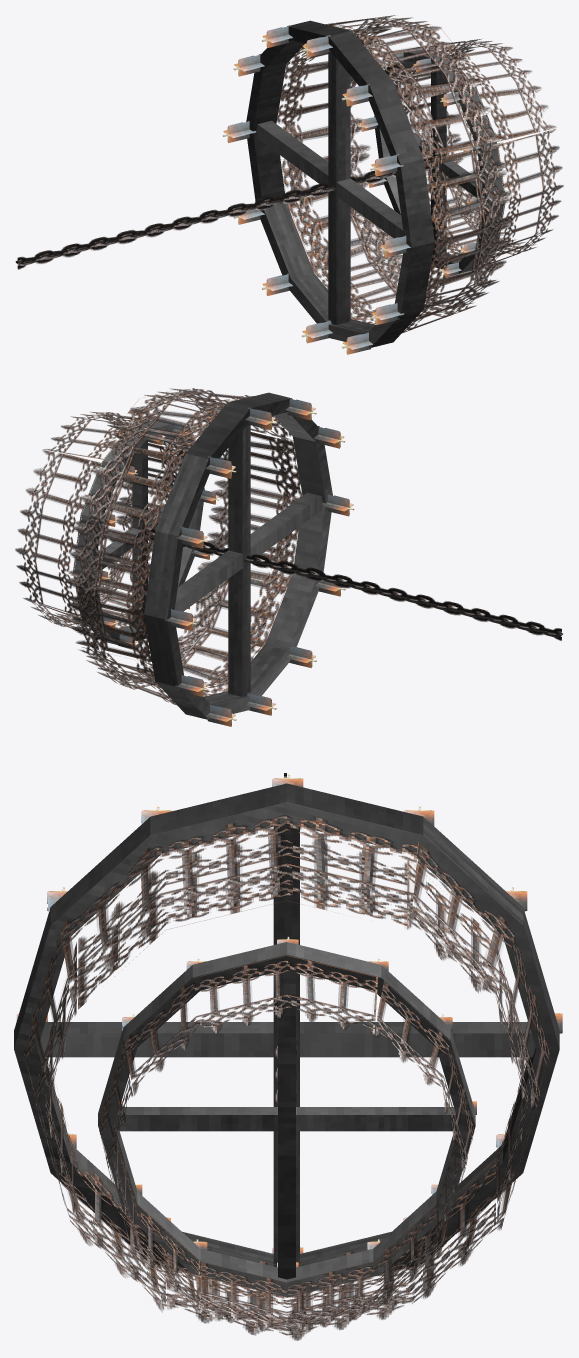
File: chandelier.glb
3 views of the same model, one above another, from view 1: azimuth 30°, elevation 25°; view 2: azimuth 150°, elevation 25°; view 3: azimuth 270°, elevation 25° (orthographic). The views are drawn at different scales.
Parts seen in each view (by area): view 1: chandelier; view 2: chandelier; view 3: chandelier.
Part boxes in pixels (x1,y1,x2,y2): chandelier: [15, 15, 563, 354]; chandelier: [15, 388, 563, 726]; chandelier: [14, 773, 562, 1340].
Bounding box in the file's own units: 4.88 × 2.88 × 2.87.
1 material, 1 textured.
